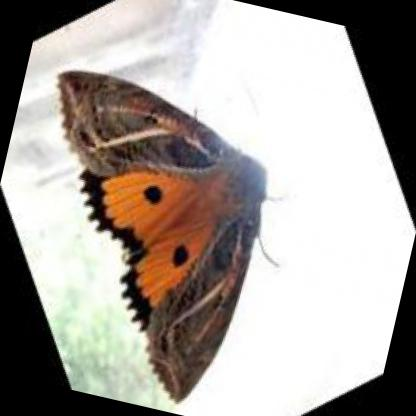fruit sucking moth: (54, 70, 270, 404)
